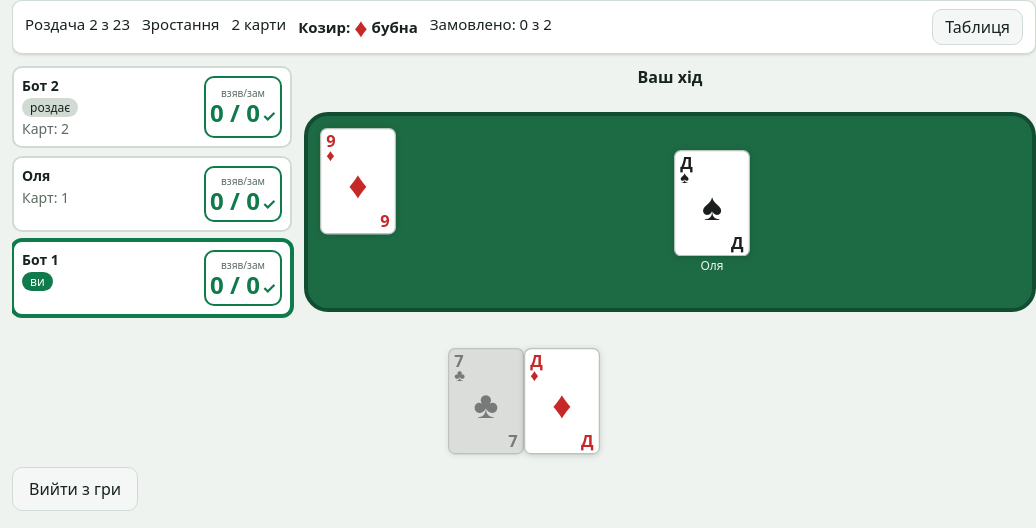
Test: ігровий стіл › після ходу рука вимкнена, доки сервер не надіслав новий стан
Click the button "Д ♦︎ ♦︎ Д" at {"x": 562, "y": 402}, box [524,348,600,455]
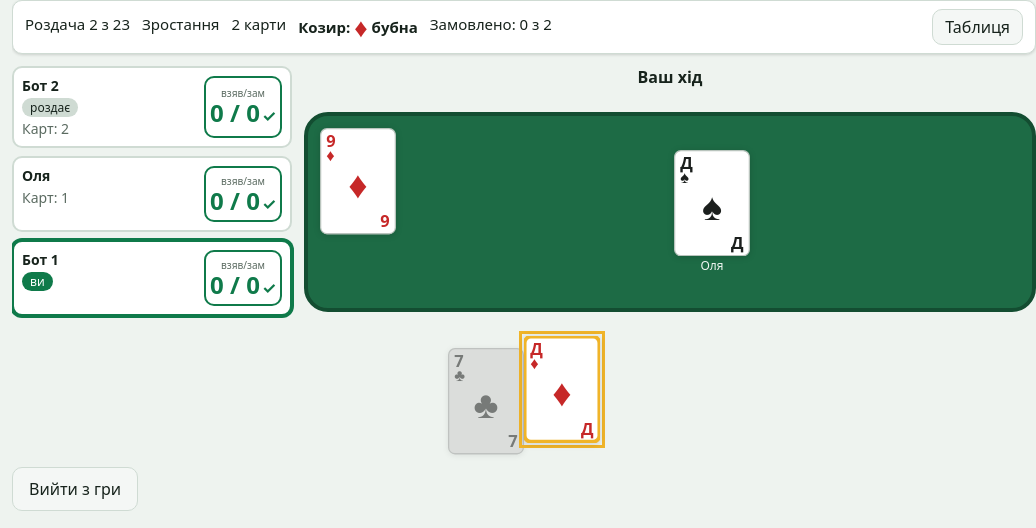
Click the button "Д ♦︎ ♦︎ Д" at {"x": 562, "y": 390}, box [524,336,600,443]
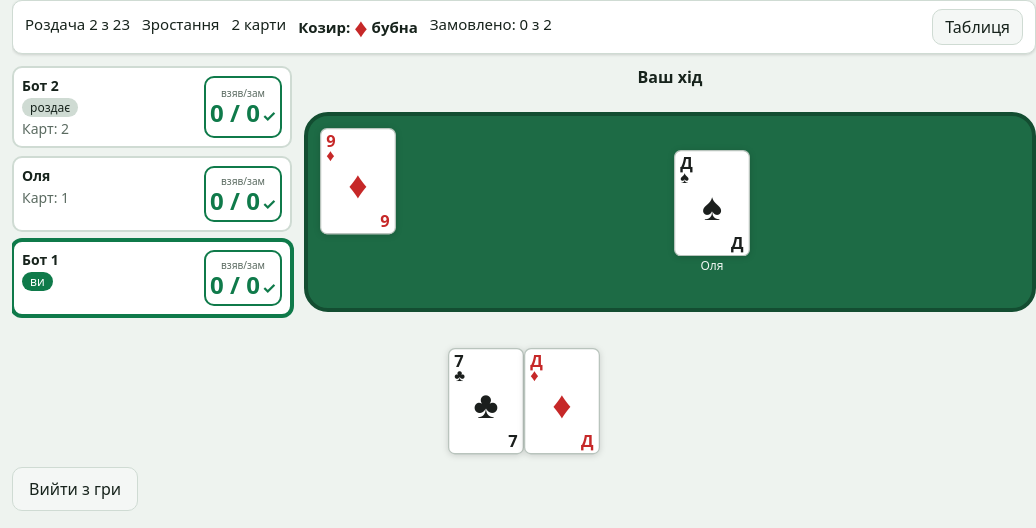
Expected: the button "7 ♣︎ ♣︎ 7" is disabled, [448,348,524,455]
Now the button "Д ♦︎ ♦︎ Д" is disabled, box [524,348,600,455]
